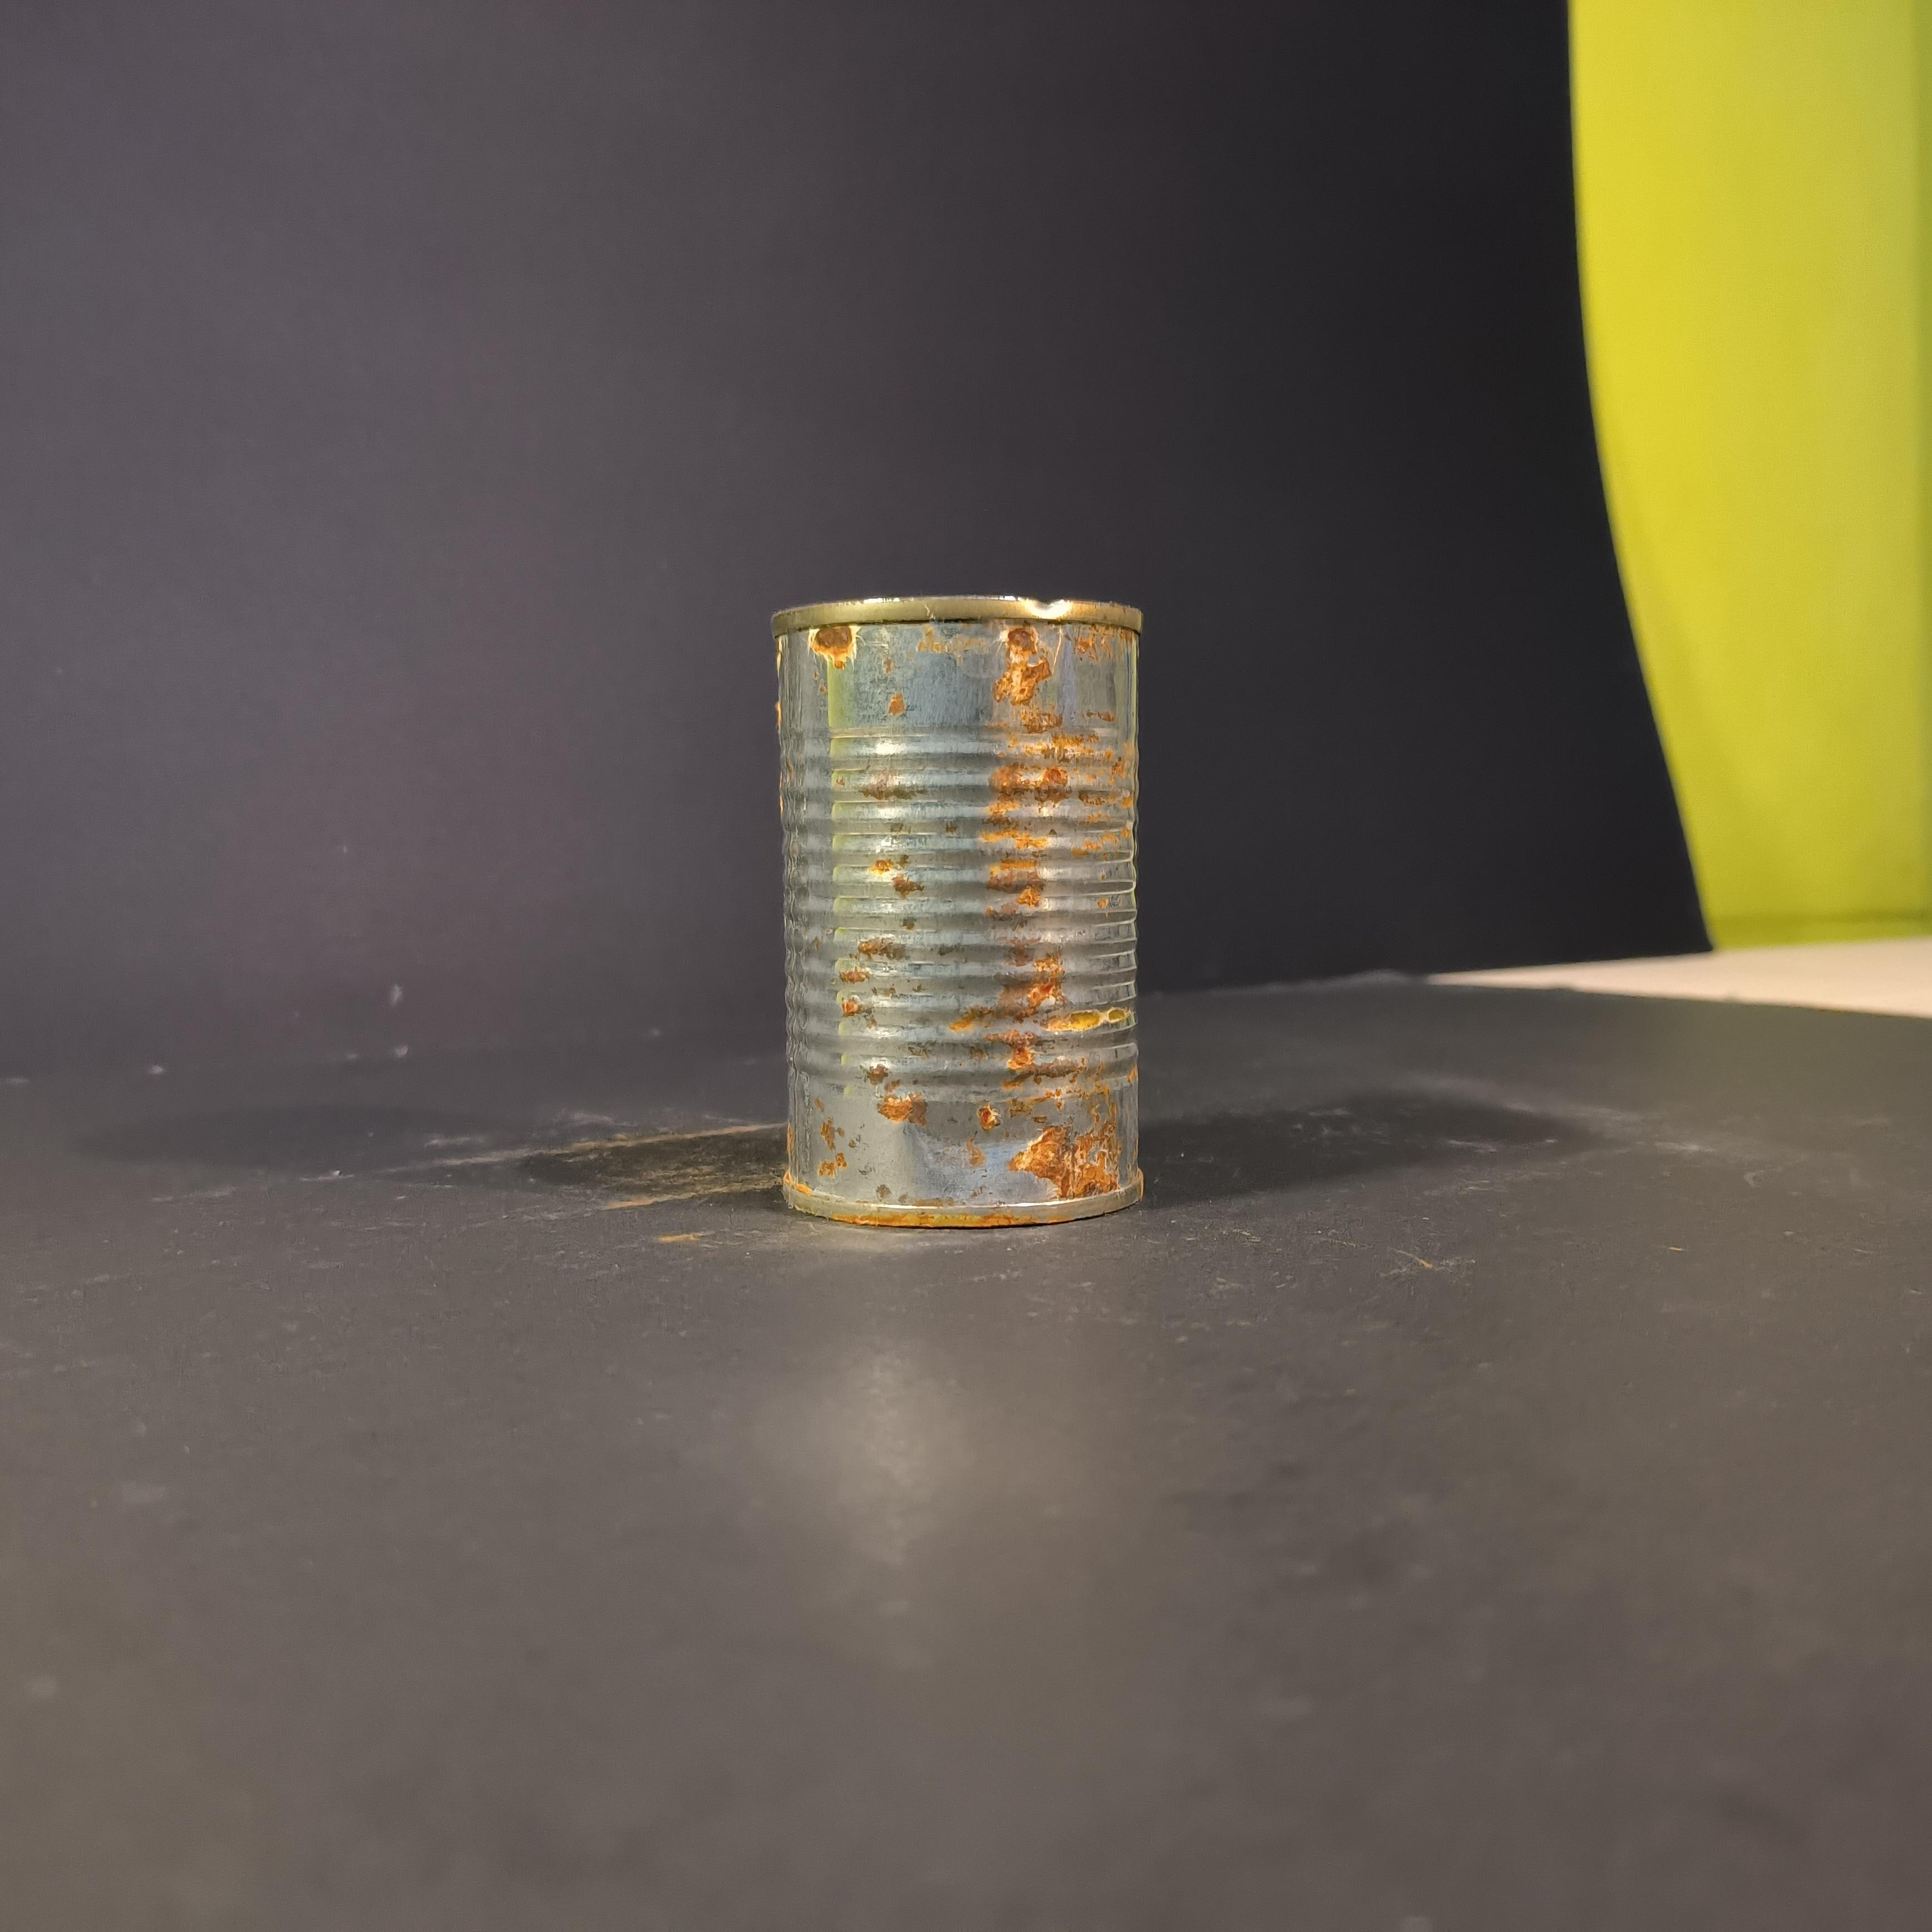Rusted: (752, 564, 1180, 1269)
